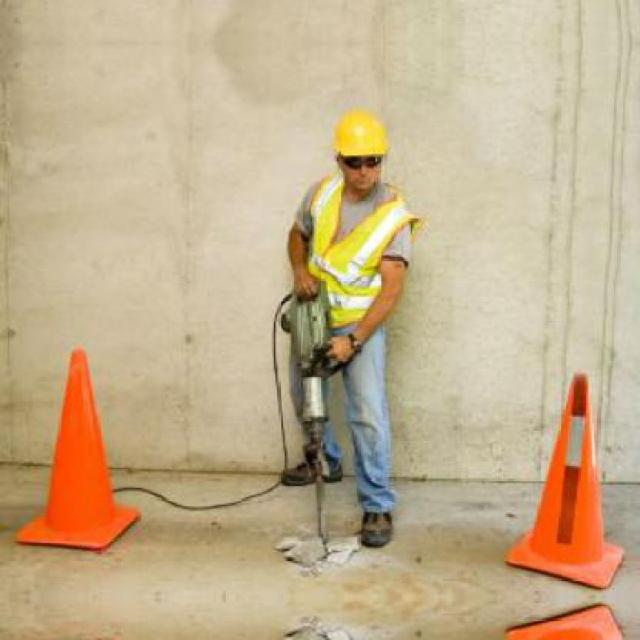helmet: (325, 99, 392, 196)
